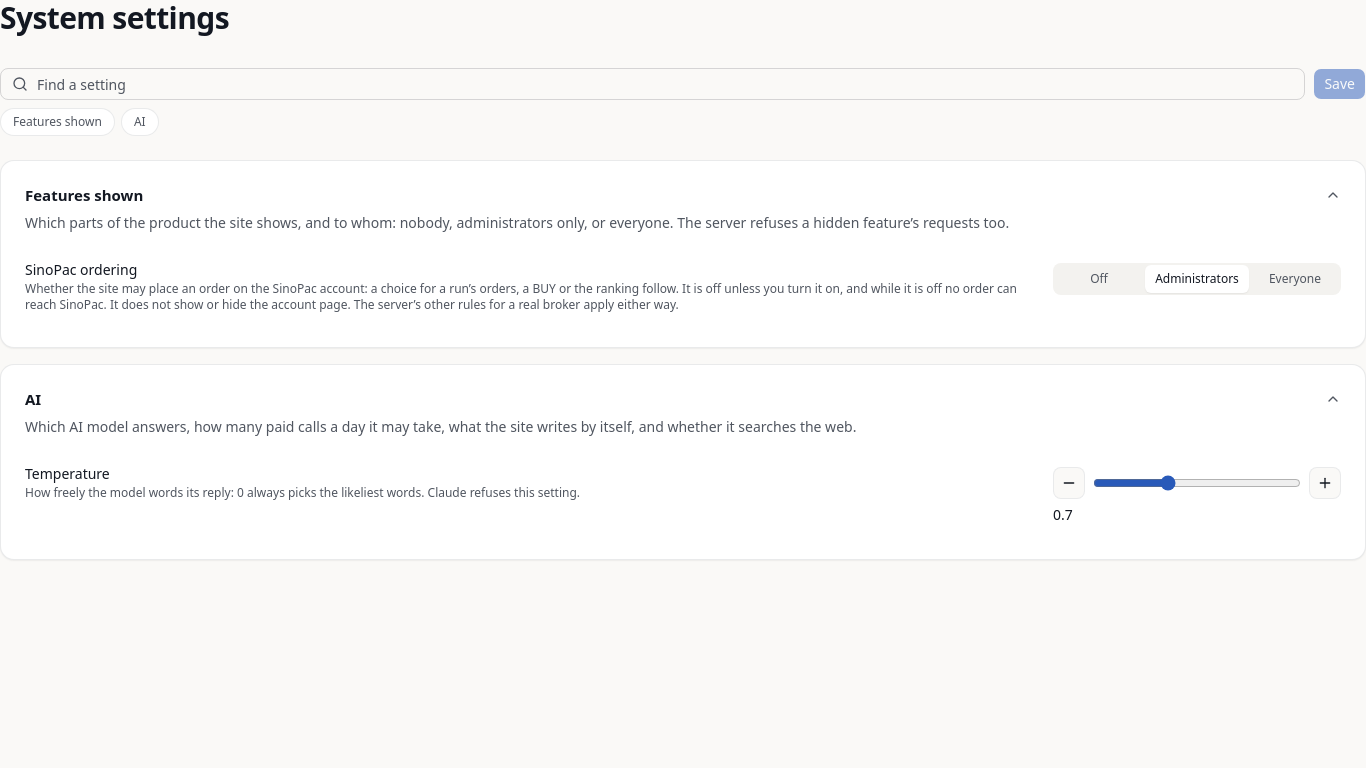
Test: a settings save by an administrator without a password › asks to confirm with Google, never for a password
The image size is (1366, 768).
Set the slider named "Temperature" to "0.3" at (1130, 483), box [1093, 467, 1301, 499]
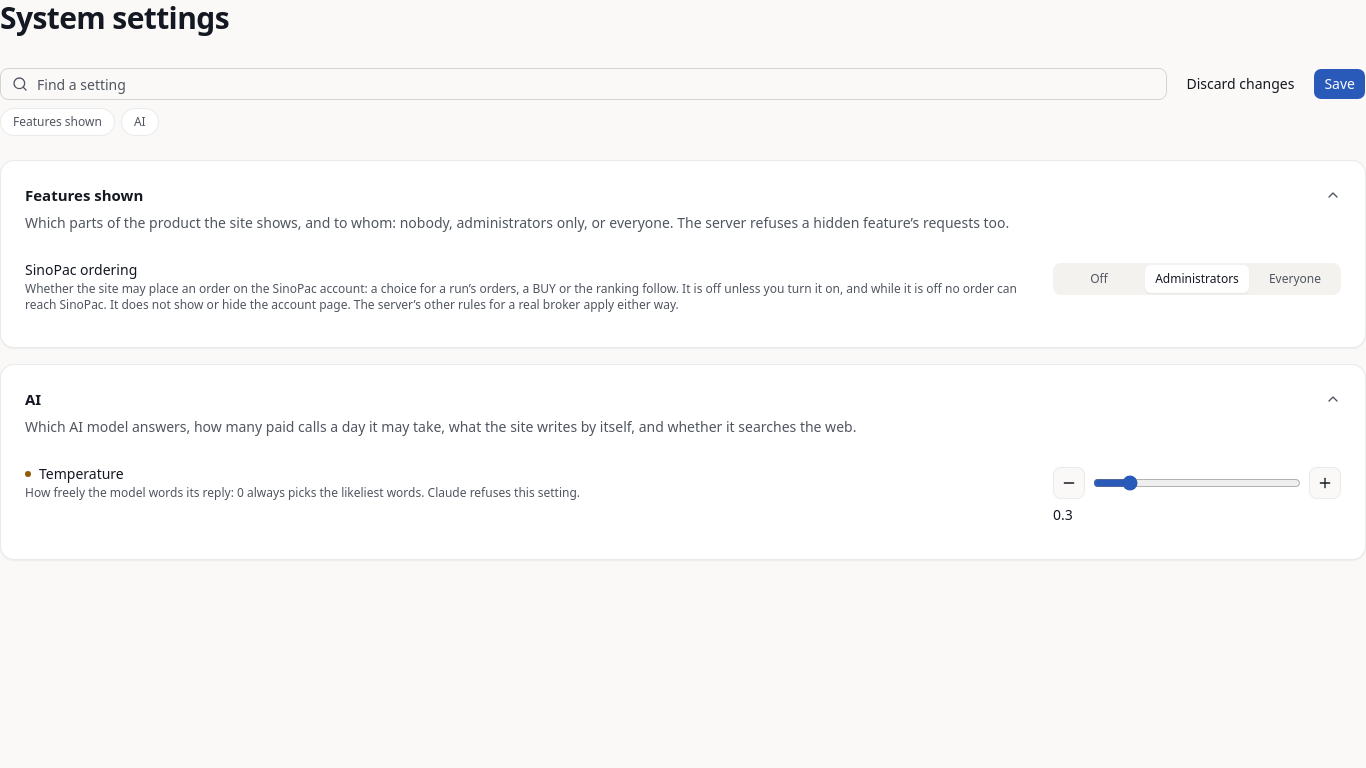
Click the button "Save" at (1340, 84), box [1313, 68, 1365, 100]
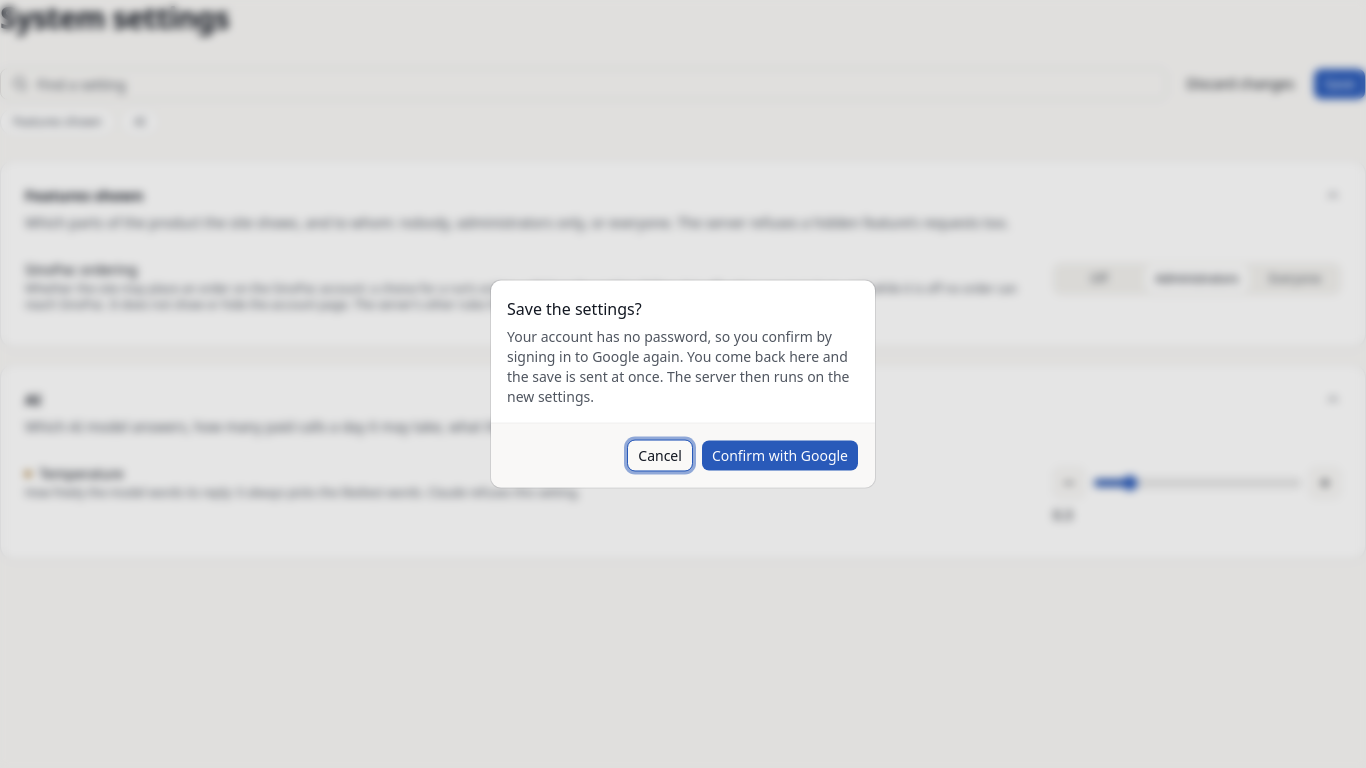
Result: the button "Confirm with Google" is shown at [701, 440, 859, 472]
